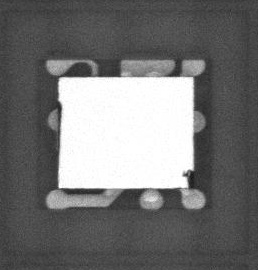DIE_BROKEN: (56, 100, 63, 149), (181, 168, 194, 188)
